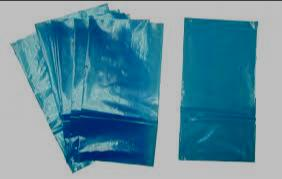Plastic: (13, 5, 158, 169), (173, 15, 261, 165)
